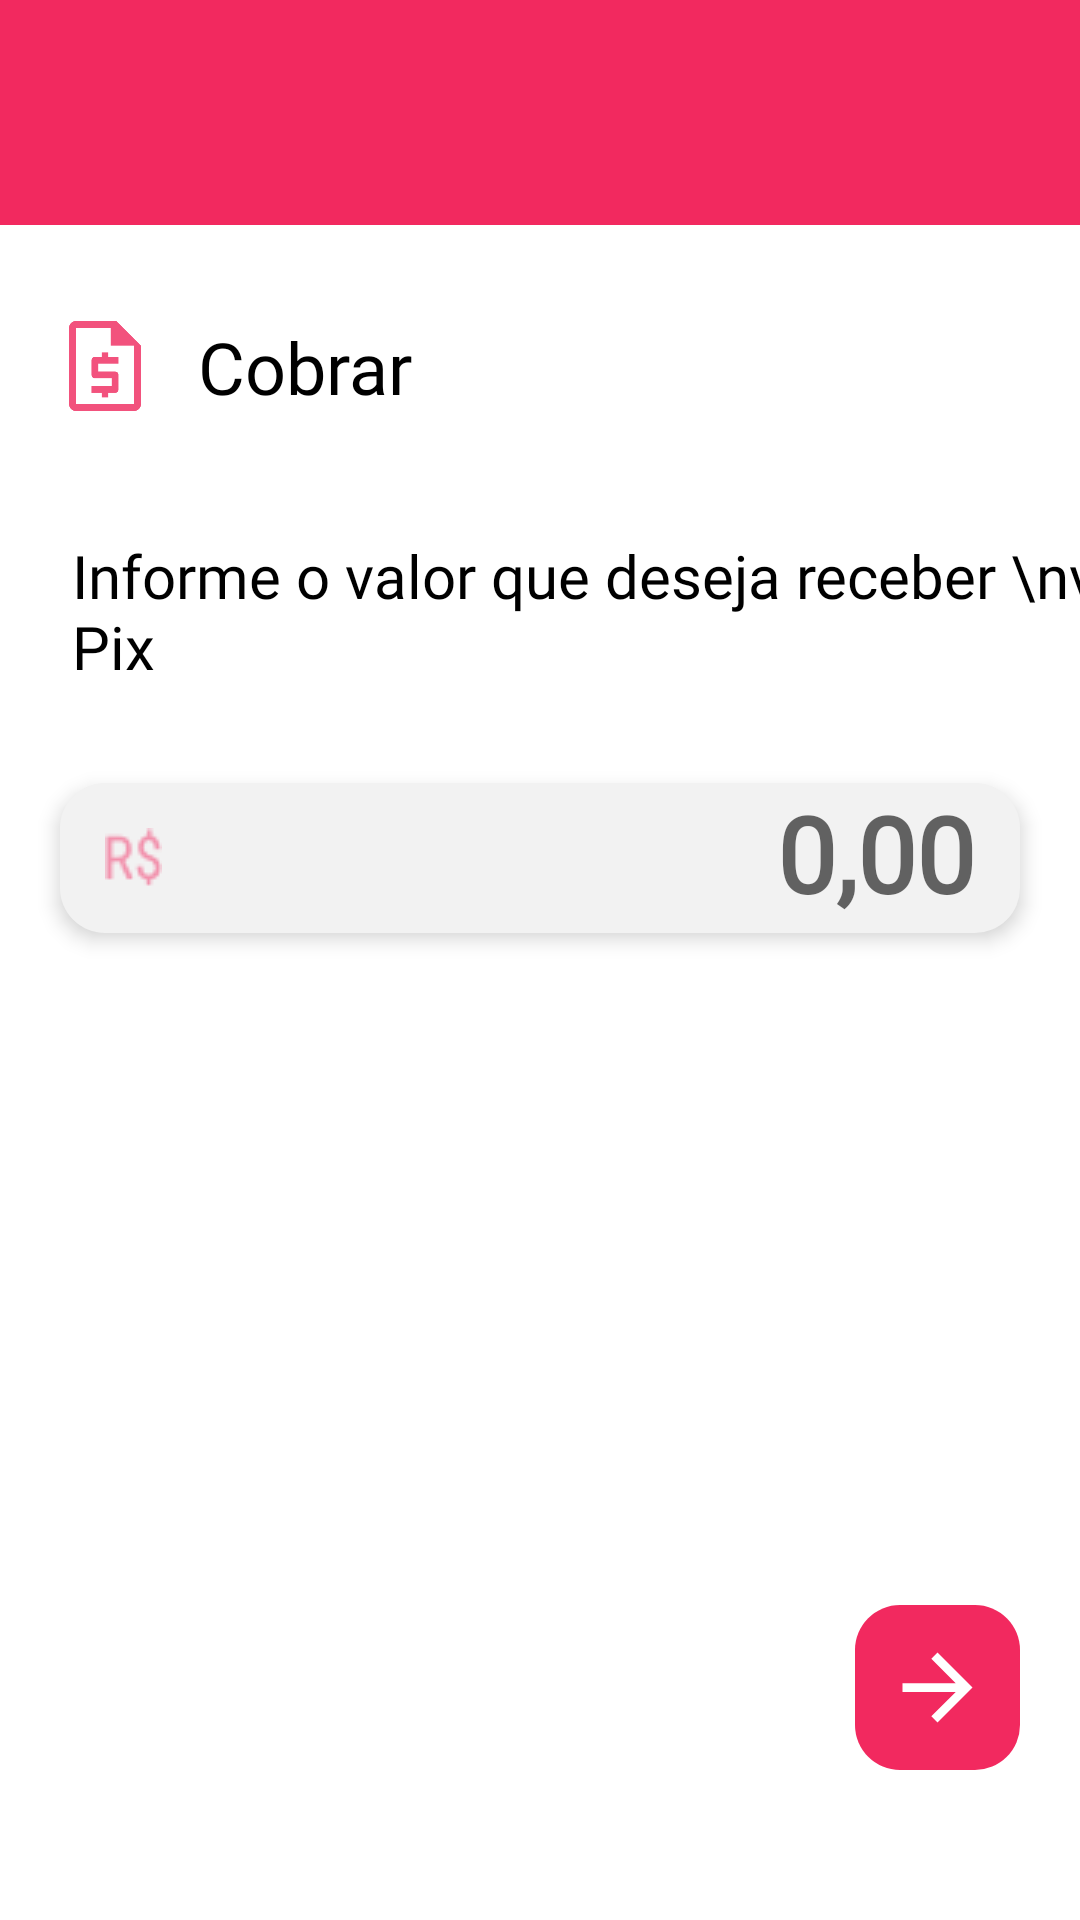

Icon bounding boxes for this 1080px×1920px phone screenshot, format bbox=[x1, y1, x2, y2]:
arrow right: bbox=[855, 1605, 1020, 1770]
